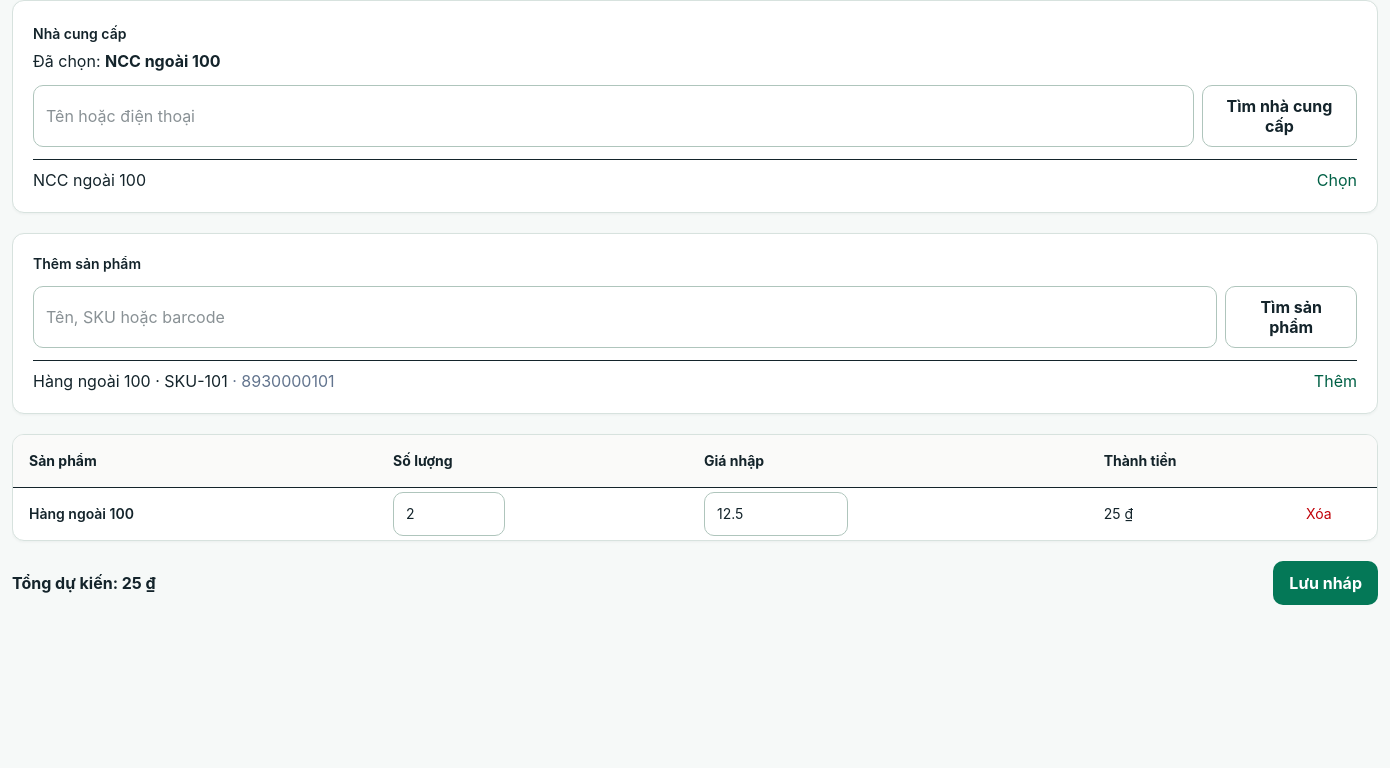
PurchaseDraftForm › prevents a duplicate product and previews the authoritative rounding rule
Click the button with aria-label "Thêm sản phẩm Hàng ngoài 100".
click(1335, 381)  # box [1314,369,1357,393]
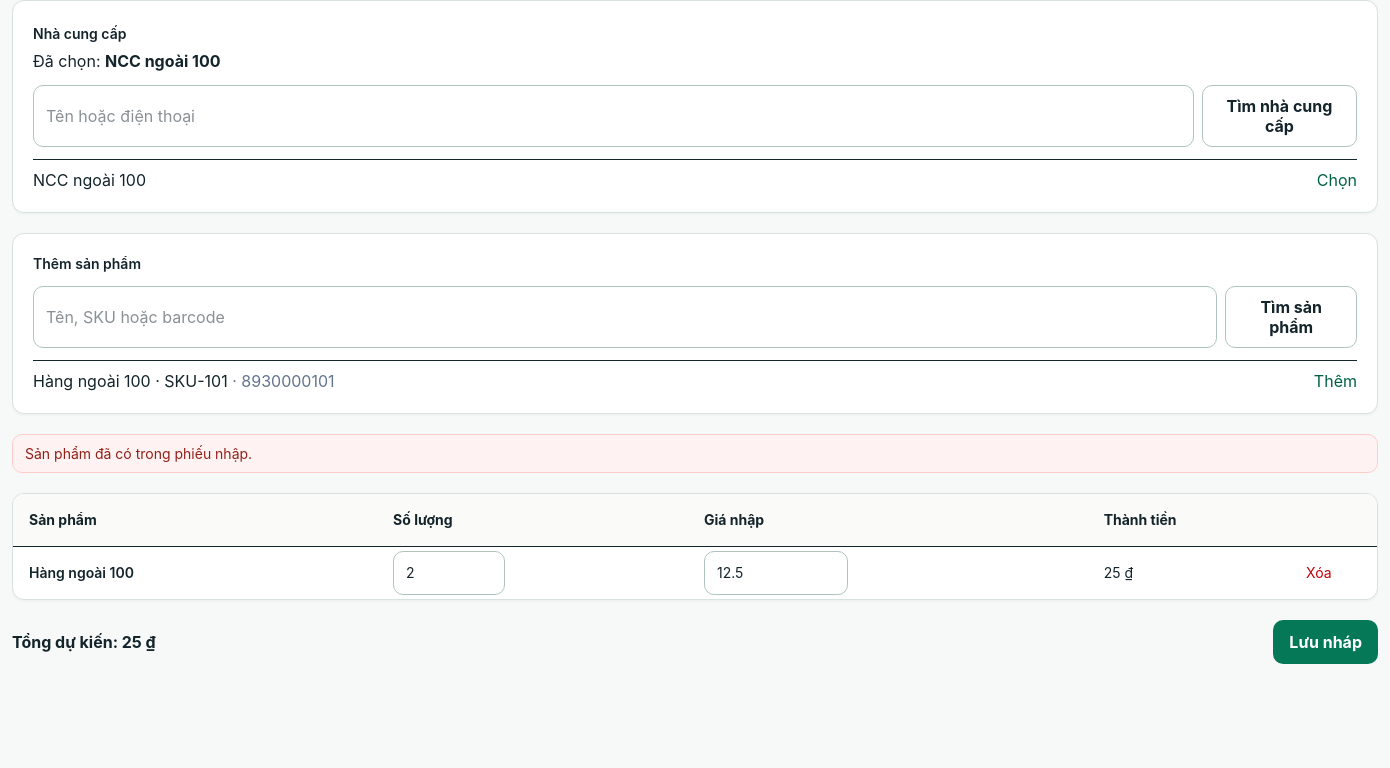
Check: the text "Sản phẩm đã có trong phiếu nhập." is shown, box [12,434,1378,473]
Replace the text in the number field named "Số lượng" with "1.005" at (449, 573), box [393,551,505,595]
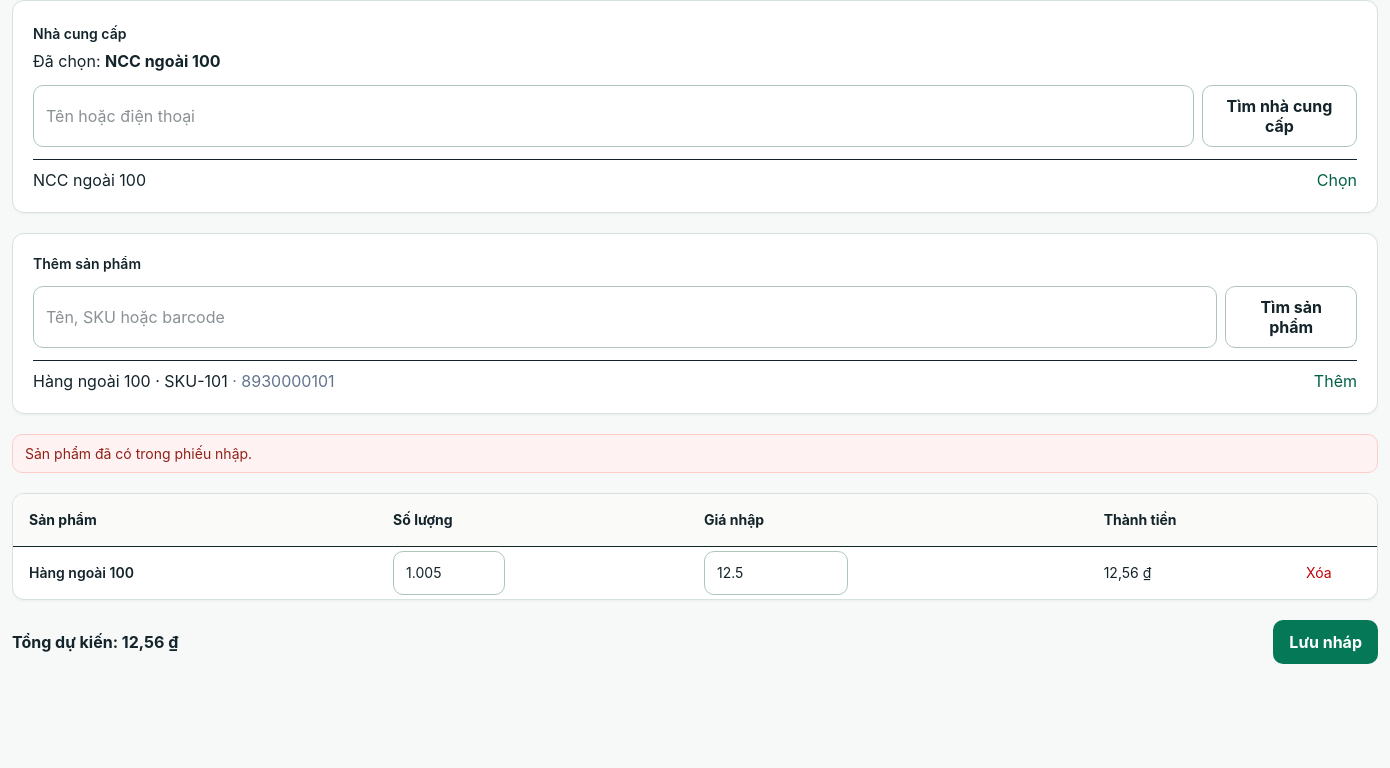
Replace the text in the number field named "Giá nhập" with "1" at (776, 573), box [704,551,848,595]
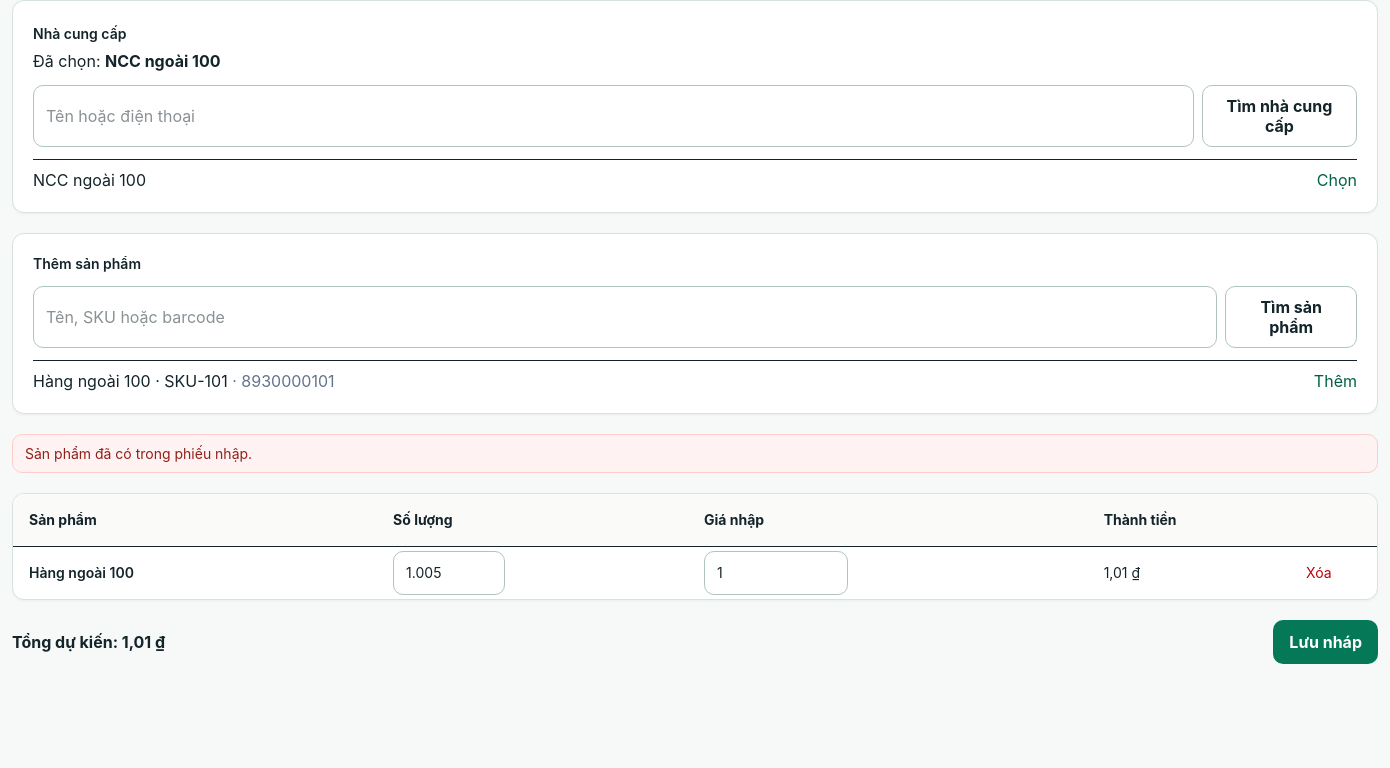
Check: the text "Tổng dự kiến: 1,01 ₫" is shown, box [12,630,165,654]
